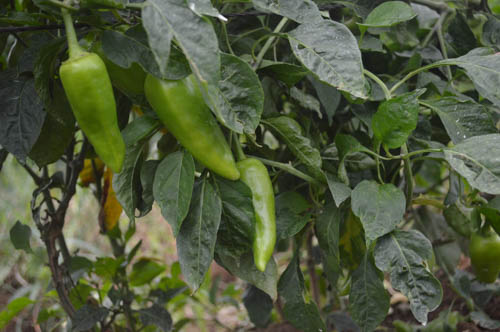ChiliPepper: (149, 72, 238, 182), (59, 59, 125, 173), (236, 156, 282, 275)
